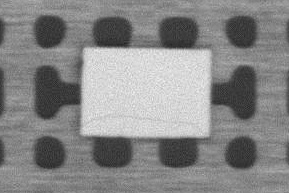DIE_CRACK: (83, 113, 201, 127)
